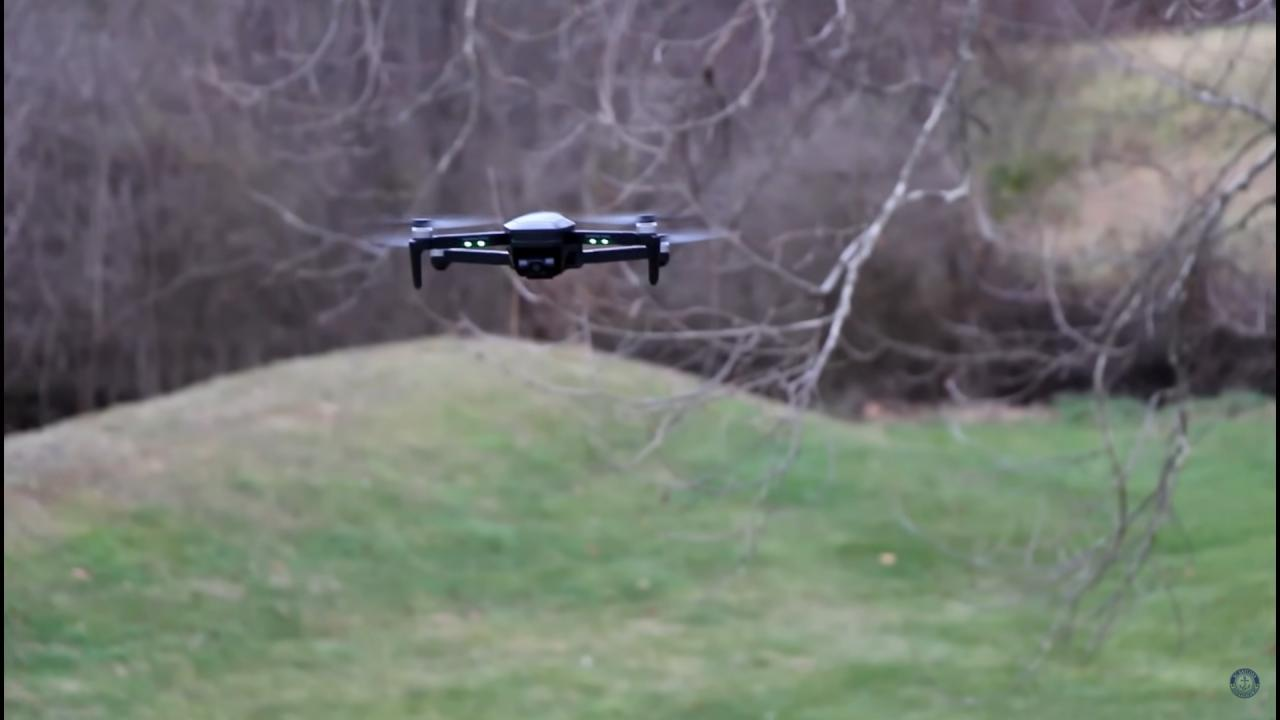Drone: (336, 188, 758, 299)
